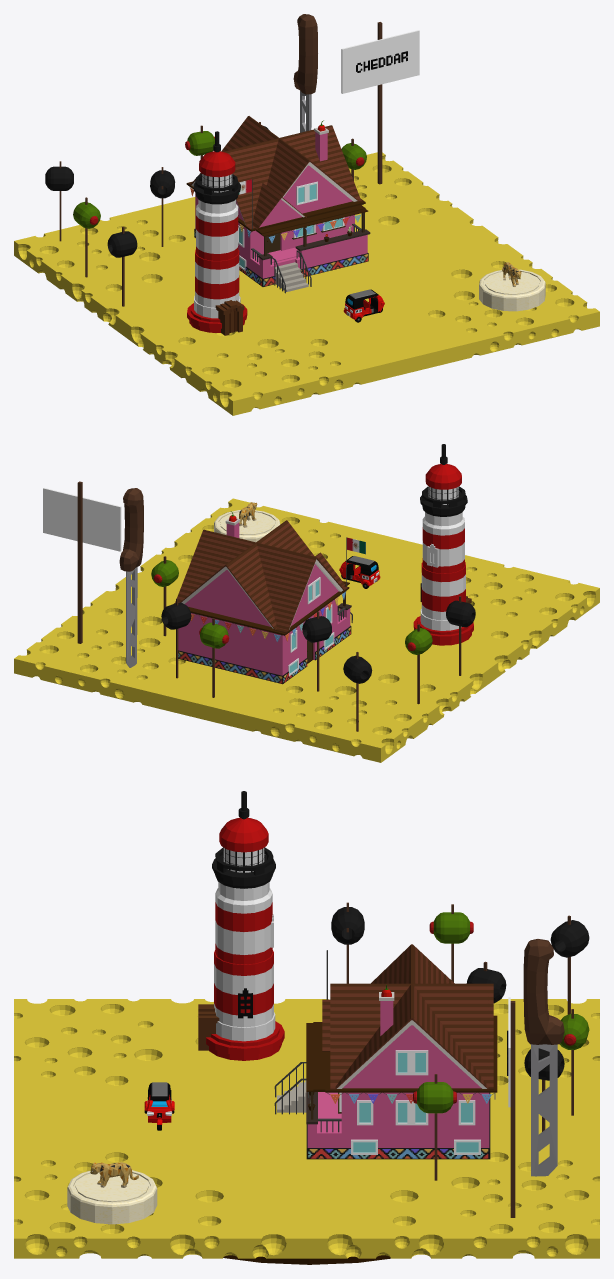
3 views of the same model, one above another, from view 1: azimuth 30°, elevation 25°; view 2: azimuth 150°, elevation 25°; view 3: azimuth 270°, elevation 25° (orthographic). The views are drawn at different scales.
Visible parts, largest first — view 1: Cube.022, Cube.1005, OBJRANDOM_LIGHTHOUSE, Cube.023, Cylinder.016, Cube.024, VEHICLES_TUC_TUC, Sphere.017, Sphere.016, Sphere.020, Sphere.018, Sphere.022 (+1 smaller); view 2: Cube.022, Cube.1005, OBJRANDOM_LIGHTHOUSE, Cube.023, Cube.024, Cylinder.016, VEHICLES_TUC_TUC, Sphere.021, Sphere.020, Sphere.017, Sphere.016, Sphere.022 (+2 smaller); view 3: Cube.022, Cube.1005, OBJRANDOM_LIGHTHOUSE, Cube.024, Cylinder.016, Cube.023, Sphere.019, Sphere.016, Sphere.018, Sphere.017, VEHICLES_TUC_TUC, Sphere.022 (+4 smaller).
Boxes of the visible parts, x1=… form: Cube.022: x1=14, y1=152, x2=599, y2=415; Cube.1005: x1=186, y1=116, x2=370, y2=293; OBJRANDOM_LIGHTHOUSE: x1=187, y1=131, x2=247, y2=335; Cube.023: x1=341, y1=22, x2=419, y2=184; Cylinder.016: x1=479, y1=269, x2=545, y2=311; Cube.024: x1=293, y1=14, x2=317, y2=132; VEHICLES_TUC_TUC: x1=343, y1=289, x2=384, y2=322; Sphere.017: x1=107, y1=226, x2=137, y2=306; Sphere.016: x1=45, y1=161, x2=73, y2=241; Sphere.020: x1=150, y1=167, x2=175, y2=246; Sphere.018: x1=73, y1=197, x2=100, y2=277; Sphere.022: x1=185, y1=125, x2=214, y2=158; Cube.022: x1=14, y1=498, x2=599, y2=762; Cube.1005: x1=174, y1=511, x2=365, y2=684; OBJRANDOM_LIGHTHOUSE: x1=413, y1=444, x2=473, y2=645; Cube.023: x1=43, y1=481, x2=121, y2=643; Cube.024: x1=119, y1=488, x2=143, y2=667; Cylinder.016: x1=214, y1=510, x2=280, y2=542; VEHICLES_TUC_TUC: x1=339, y1=556, x2=380, y2=588; Sphere.021: x1=161, y1=598, x2=191, y2=678; Sphere.020: x1=302, y1=611, x2=331, y2=691; Sphere.017: x1=446, y1=596, x2=475, y2=675; Sphere.016: x1=343, y1=652, x2=372, y2=731; Sphere.022: x1=199, y1=618, x2=229, y2=697; Cube.022: x1=14, y1=999, x2=599, y2=1258; Cube.1005: x1=274, y1=944, x2=497, y2=1159; OBJRANDOM_LIGHTHOUSE: x1=198, y1=791, x2=284, y2=1060; Cube.024: x1=523, y1=939, x2=564, y2=1176; Cylinder.016: x1=67, y1=1170, x2=157, y2=1224; Cube.023: x1=507, y1=997, x2=515, y2=1217; Sphere.019: x1=413, y1=1074, x2=456, y2=1180; Sphere.016: x1=550, y1=915, x2=589, y2=1014; Sphere.018: x1=429, y1=904, x2=473, y2=982; Sphere.017: x1=331, y1=902, x2=364, y2=983; VEHICLES_TUC_TUC: x1=144, y1=1082, x2=174, y2=1130; Sphere.022: x1=560, y1=1009, x2=589, y2=1115.
Size of the model in its own units: 3917 by 2197 by 4000.
Materials: 80 (5 with a texture image).
